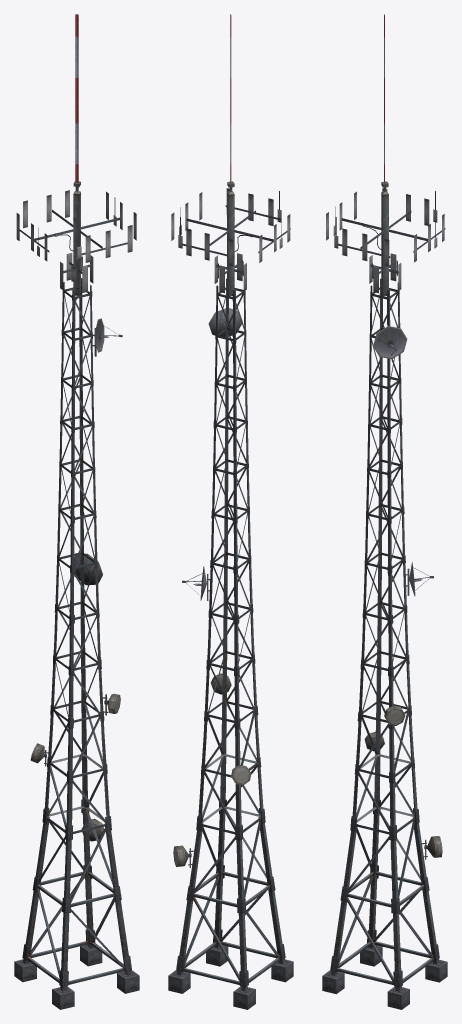
Rendered from Prop_Tower.glb.
3 renders of one model, left to right at view 1: azimuth 30°, elevation 25°; view 2: azimuth 150°, elevation 25°; view 3: azimuth 330°, elevation 25°, orthographic.
Visible parts, largest first — view 1: xiutz_tt_0; view 2: xiutz_tt_0; view 3: xiutz_tt_0.
Part boxes in pixels (bbox=[...]): xiutz_tt_0: bbox=[14, 14, 139, 1009]; xiutz_tt_0: bbox=[168, 14, 293, 1009]; xiutz_tt_0: bbox=[322, 14, 447, 1009].
Size of the model in its own units: 3.25 by 33.86 by 3.26.
Materials: 2 (2 with a texture image).
